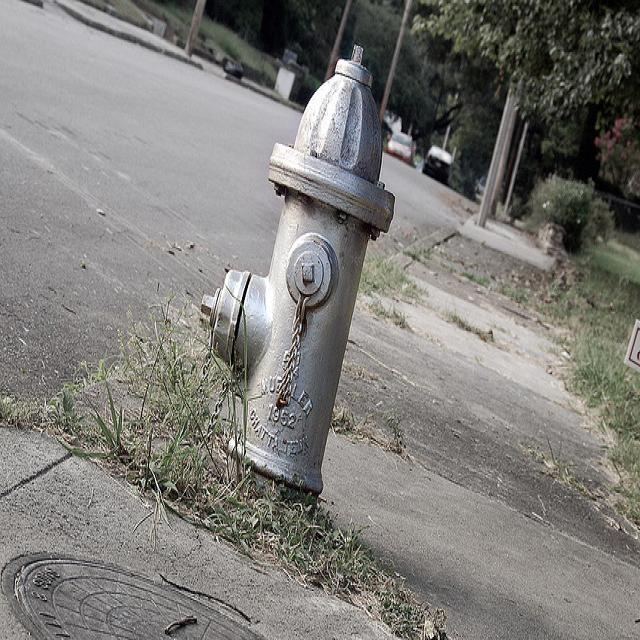Vehicle: (422, 145, 452, 186), (386, 131, 418, 161)
